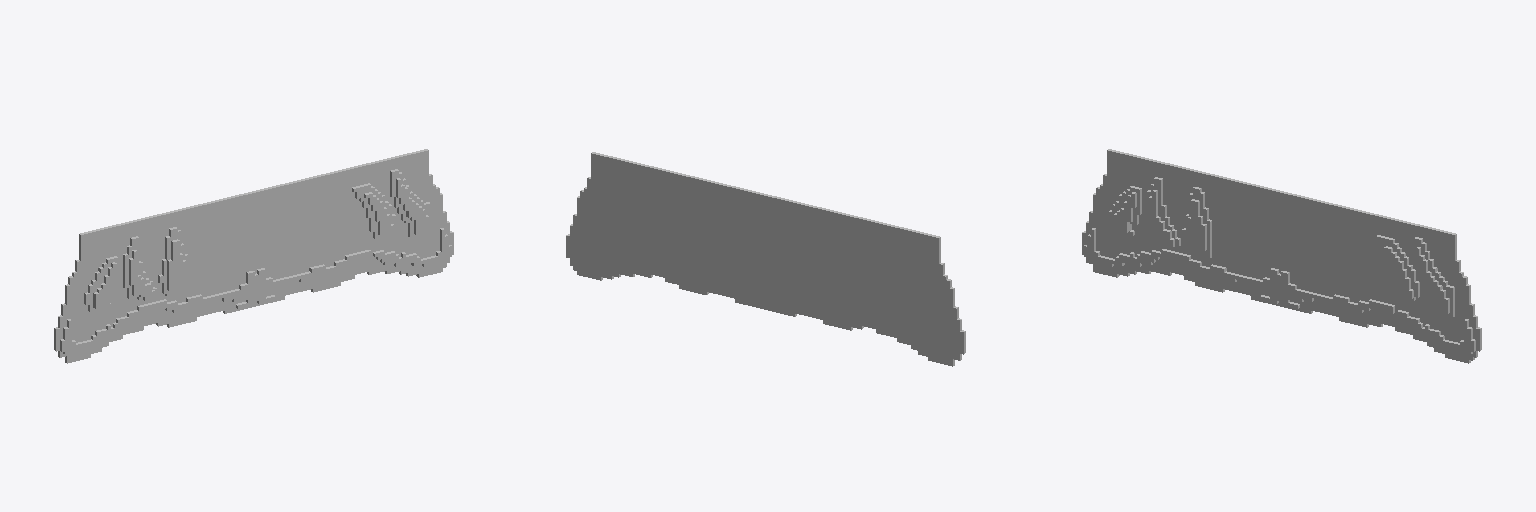
Rendered from boss_1_bottom_ piece-0.obj.
3 renders of one model, left to right at view 1: azimuth 30°, elevation 25°; view 2: azimuth 150°, elevation 25°; view 3: azimuth 330°, elevation 25°, orthographic.
Parts seen in each view (by area): view 1: object 1; view 2: object 1; view 3: object 1.
Boxes of the visible parts, <box> form: object 1: <box>54,149,453,363</box>; object 1: <box>566,152,965,366</box>; object 1: <box>1082,149,1481,363</box>.
Size of the model in its own units: 11.3 by 3.4 by 0.3.